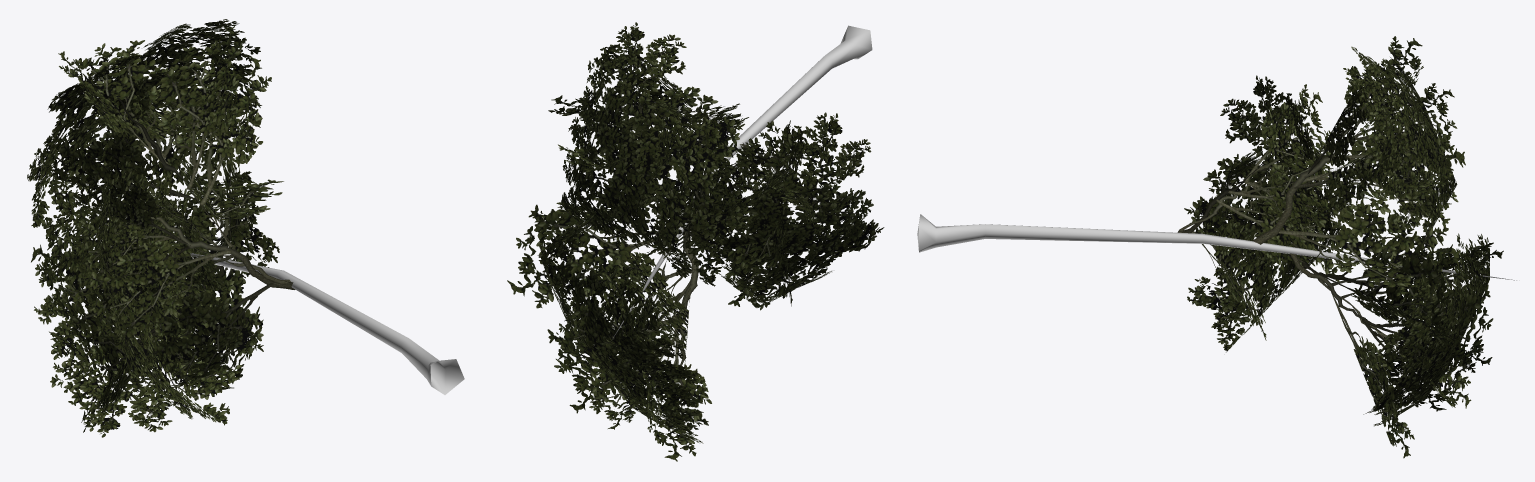
File: MEP_Tree_02_f.fbx
The picture shows the model from 3 angles, left to right: view 1: azimuth 30°, elevation 25°; view 2: azimuth 150°, elevation 25°; view 3: azimuth 270°, elevation 25°; orthographic projection. The views are drawn at different scales.
Parts seen in each view (by area): view 1: EP_Leafs_02_f, MEP_TreeBark_01_f; view 2: EP_Leafs_02_f, MEP_TreeBark_01_f; view 3: EP_Leafs_02_f, MEP_TreeBark_01_f.
Part boxes in pixels (box(x1,y1,x2,y2)): EP_Leafs_02_f: box(27, 19, 295, 437); MEP_TreeBark_01_f: box(72, 229, 464, 394); EP_Leafs_02_f: box(507, 22, 884, 461); MEP_TreeBark_01_f: box(611, 25, 872, 340); EP_Leafs_02_f: box(1177, 36, 1503, 458); MEP_TreeBark_01_f: box(917, 214, 1516, 280).
Bounding box in the file's own units: 17.28 × 23.47 × 30.83.
